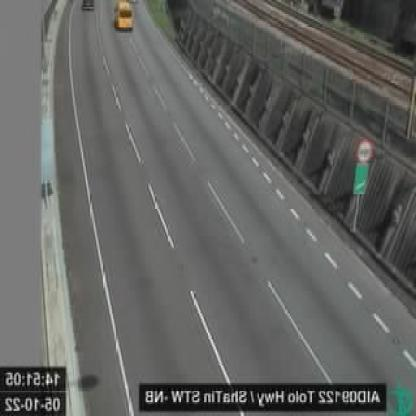Car: (117, 0, 135, 31)
